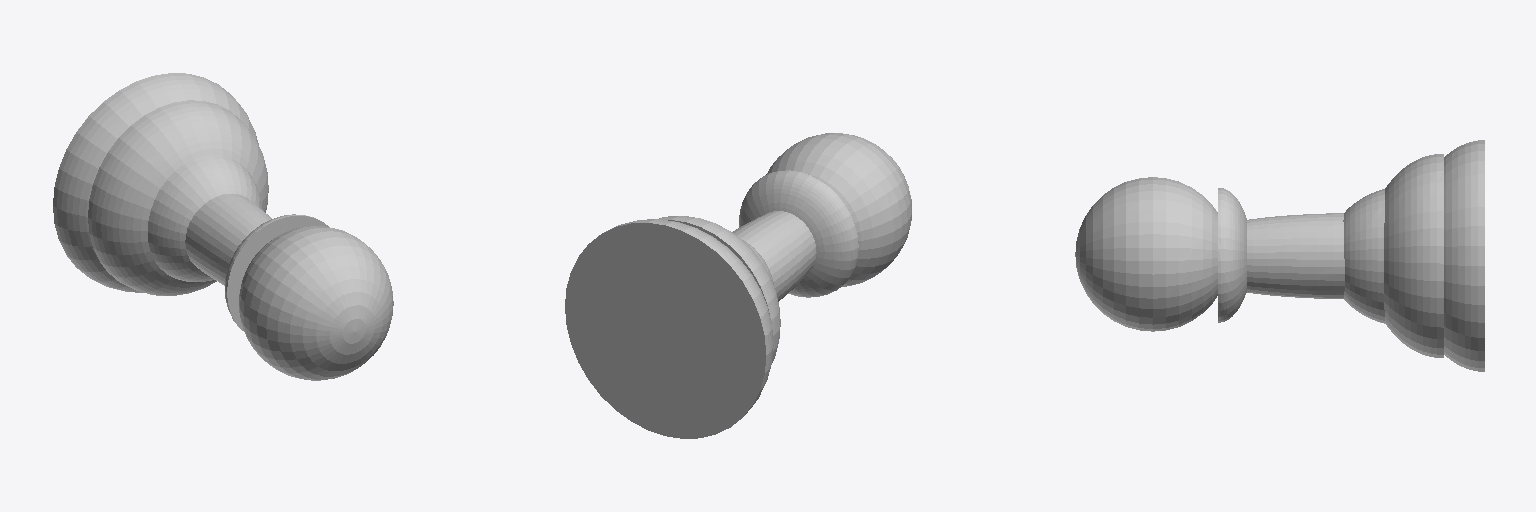
Rendered from pawn.obj.
3 views of the same model, side by side, from view 1: azimuth 30°, elevation 25°; view 2: azimuth 150°, elevation 25°; view 3: azimuth 270°, elevation 25° (orthographic).
Visible parts, largest first — view 1: obj_0; view 2: obj_0; view 3: obj_0.
Part boxes in pixels (bbox=[...]): obj_0: bbox=[53, 73, 393, 380]; obj_0: bbox=[565, 133, 911, 438]; obj_0: bbox=[1075, 140, 1484, 371].
Bounding box in the file's own units: 4.94 × 4.94 × 8.69.